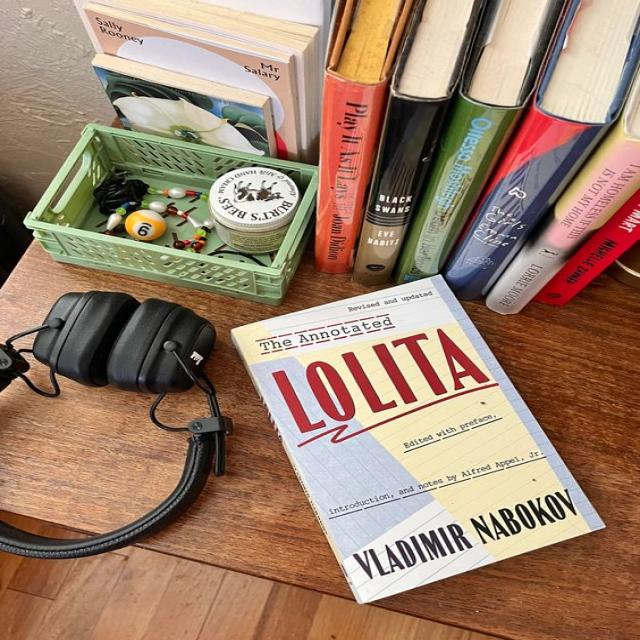book: (444, 103, 618, 300), (486, 122, 639, 314), (394, 92, 527, 283), (353, 83, 450, 284), (314, 77, 388, 273), (534, 190, 639, 305)
